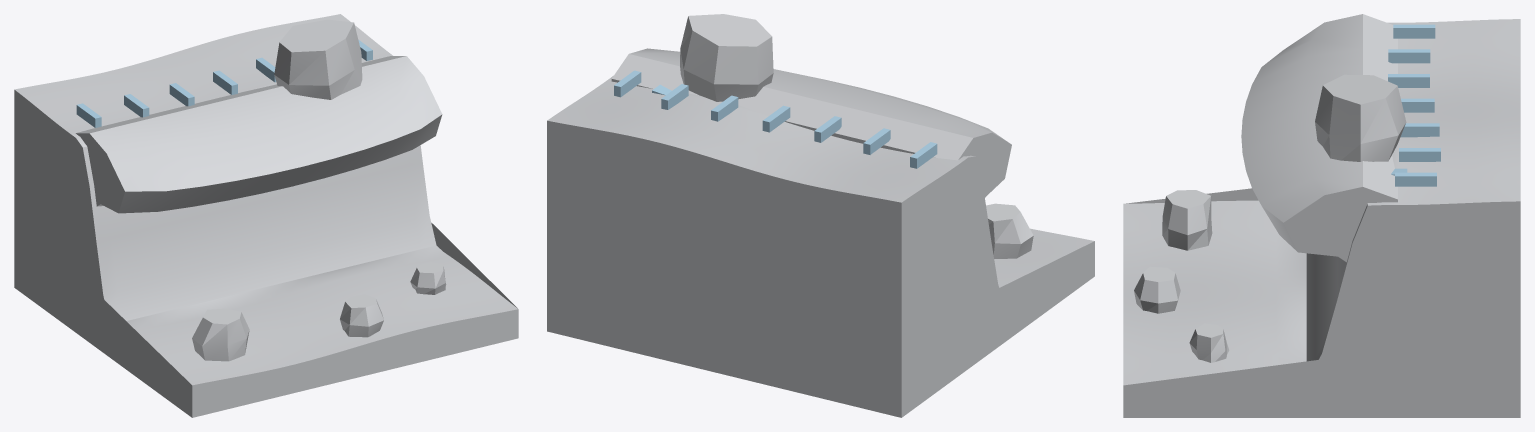
File: backcountry-snowboarding-and-avalanche-safety-cornice--1710486d__18944.glb
3 renders of one model, left to right at view 1: azimuth 30°, elevation 25°; view 2: azimuth 150°, elevation 25°; view 3: azimuth 270°, elevation 25°, orthographic. The views are drawn at different scales.
Visible parts, largest first — view 1: cornice-block; view 2: cornice-block; view 3: cornice-block.
Part boxes in pixels (bbox=[...]): cornice-block: bbox=[14, 14, 518, 417]; cornice-block: bbox=[547, 14, 1094, 417]; cornice-block: bbox=[1123, 14, 1520, 417].
Size of the model in its own units: 3.6 by 2.66 by 3.4.
